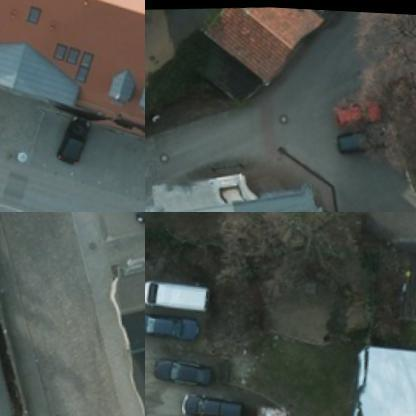car: (56, 109, 101, 168), (146, 276, 206, 310), (145, 308, 203, 343), (157, 354, 216, 388), (338, 122, 394, 154), (183, 386, 244, 415), (336, 86, 386, 121)
